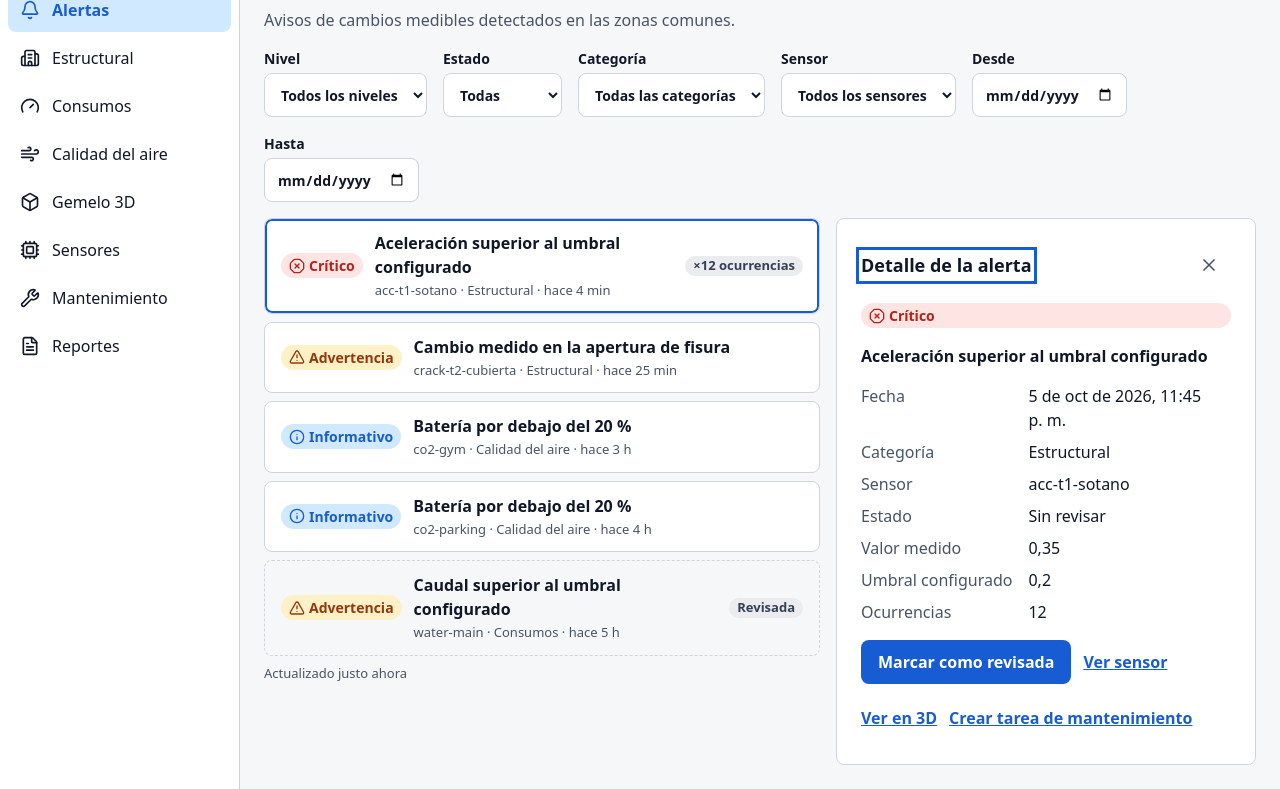
Test: detalle de alerta › cancelar el diálogo no envía nada
(page scrolled)
Expected: the text "Aceleración superior al umbral configurado" below "Detalle de la alerta" is shown, 861,345 -> 1208,367
Click the button "Marcar como revisada": point(966, 662) 861,640 -> 1071,684
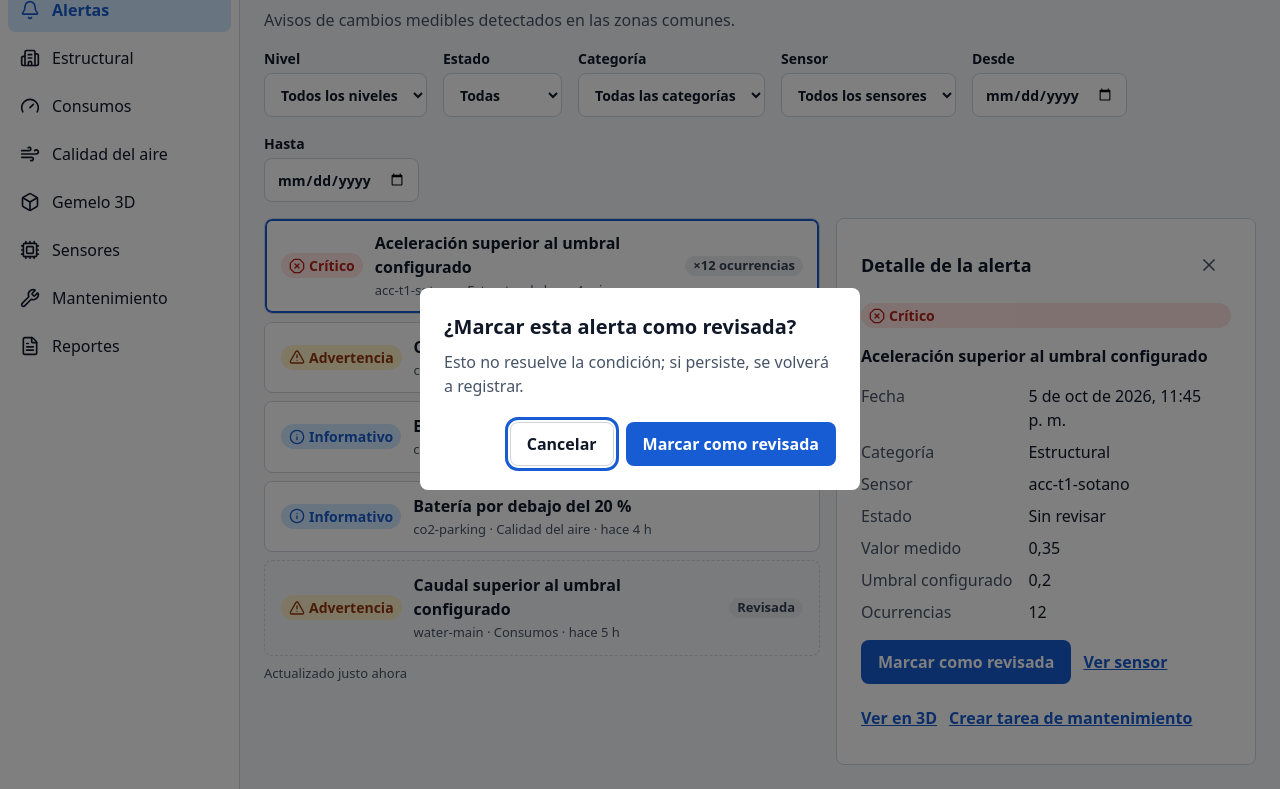
Click the button "Cancelar": point(562, 444) 510,422 -> 614,466
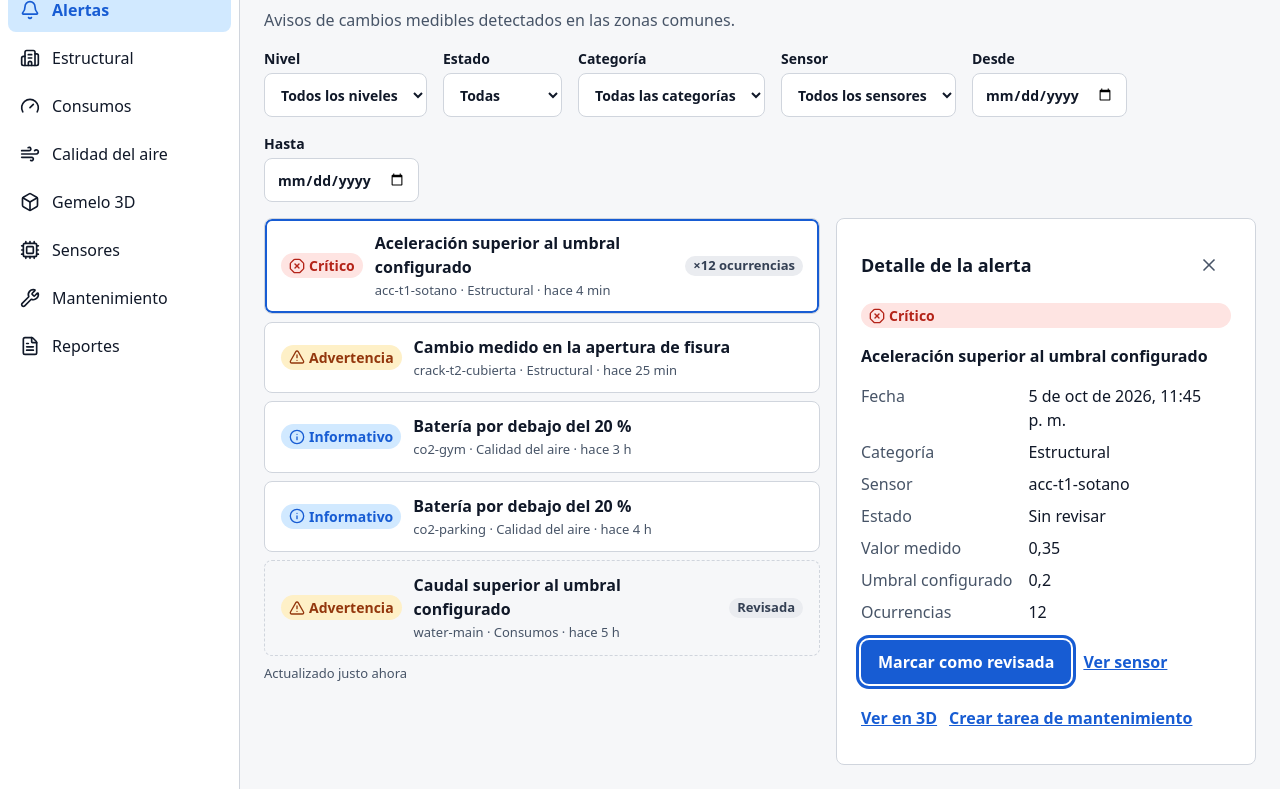
Expected: the text "Sin revisar" is shown, 1028,505 -> 1106,527
Expected: the dialog is gone
